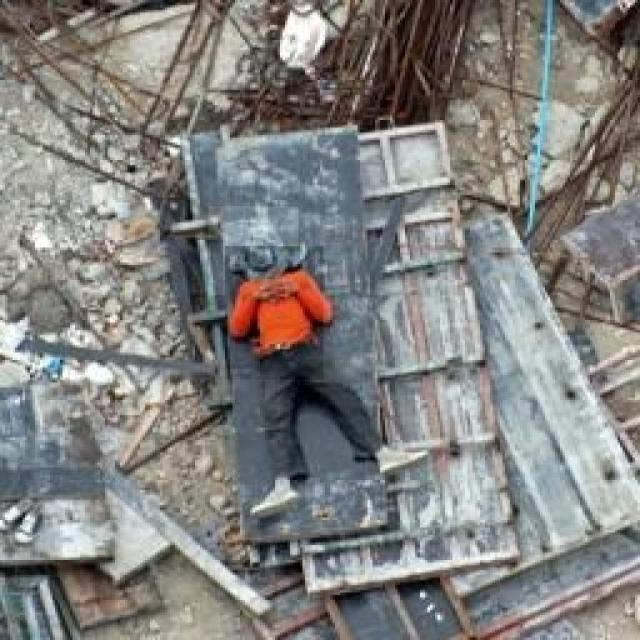Helmet: (225, 247, 323, 381), (208, 206, 298, 295)
